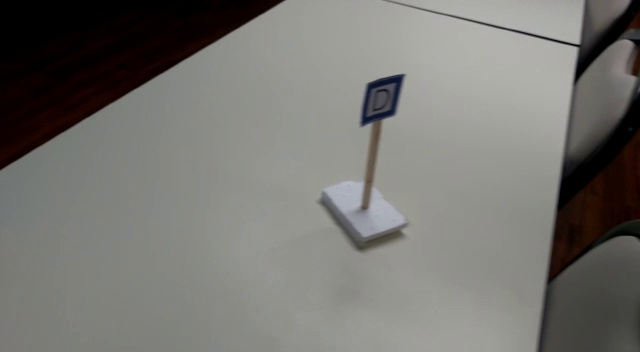durak: (361, 74, 406, 125)
